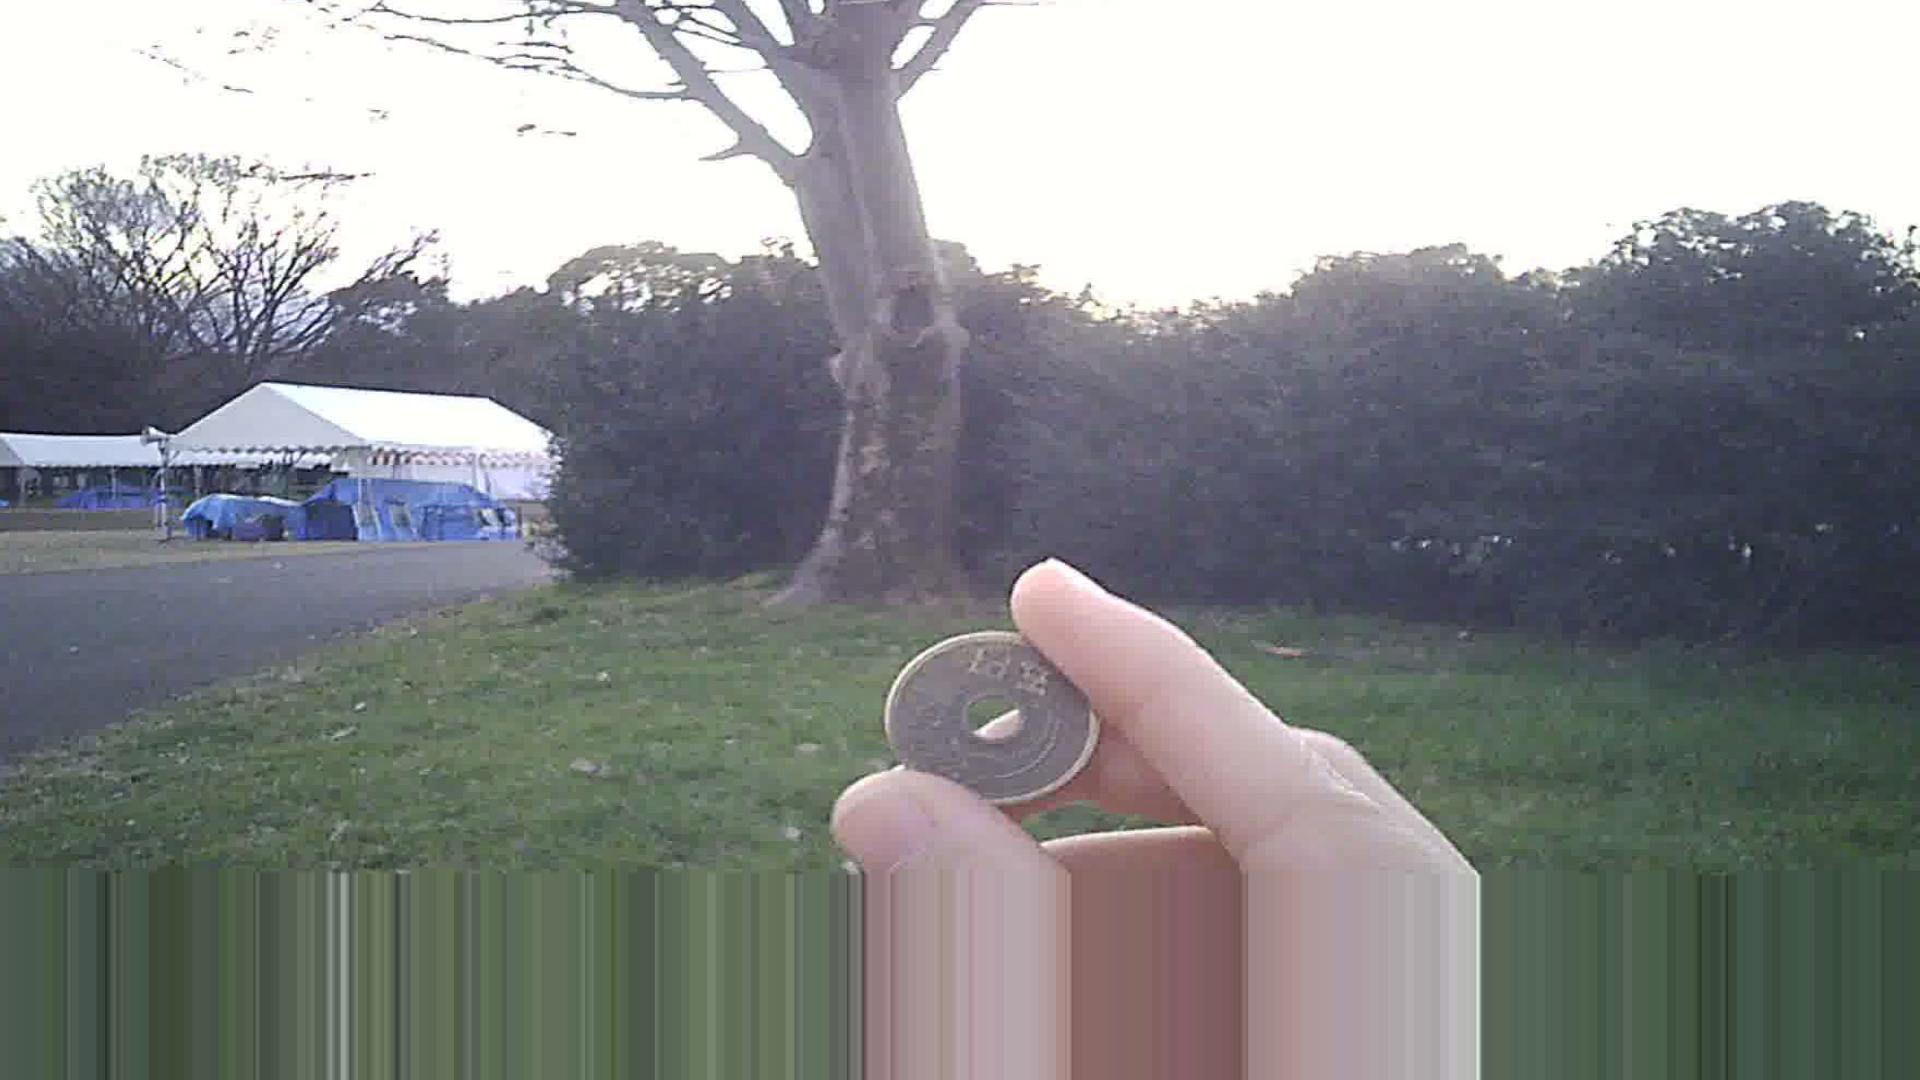5 Yen: (889, 633, 1109, 810)
